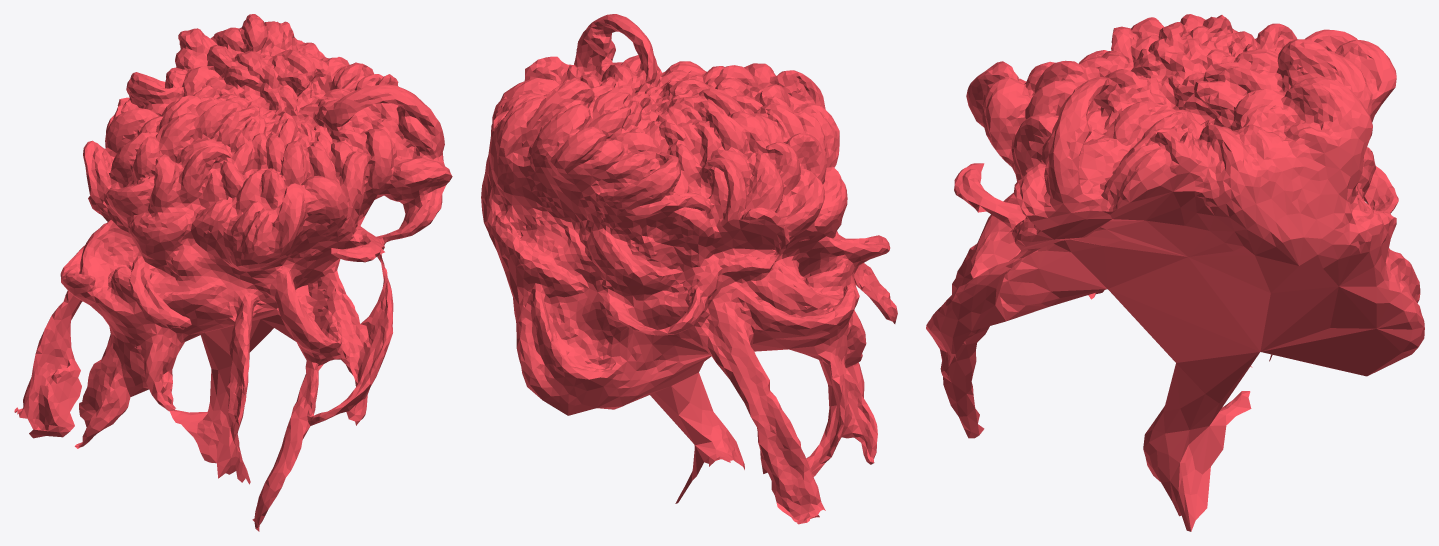
Rendered from flower8.glb.
3 views of the same model, side by side, from view 1: azimuth 30°, elevation 25°; view 2: azimuth 150°, elevation 25°; view 3: azimuth 270°, elevation 25° (orthographic). The views are drawn at different scales.
Size of the model in its own units: 126 by 150 by 130.
